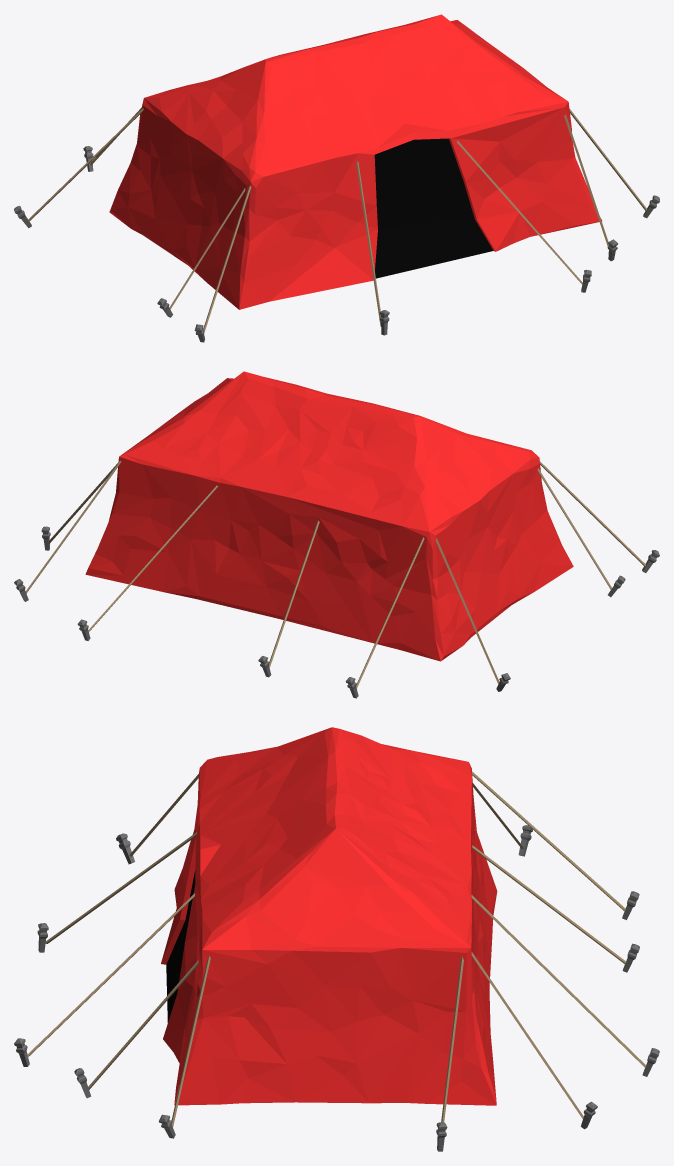
Rendered from tent_b_01.FBX.
3 views of the same model, one above another, from view 1: azimuth 30°, elevation 25°; view 2: azimuth 150°, elevation 25°; view 3: azimuth 270°, elevation 25° (orthographic). The views are drawn at different scales.
Parts seen in each view (by area): view 1: tent_b_01; view 2: tent_b_01; view 3: tent_b_01.
Part boxes in pixels (<box>): tent_b_01: <box>14,14,659,342</box>; tent_b_01: <box>14,371,659,698</box>; tent_b_01: <box>14,727,659,1151</box>.
Bounding box in the file's own units: 11.32 × 3.99 × 10.19.
